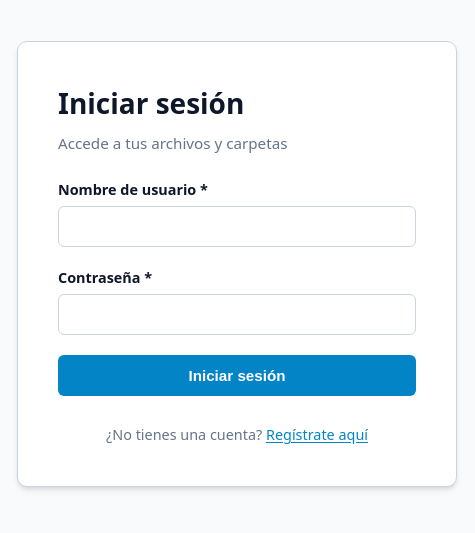
Frontend & Accesibilidad (a11y) - Módulo de Autenticación (O04) › Formulario de Login (LoginPage) › muestra errores accesibles (role="alert" y aria-invalid) al fallar validación de cliente
Enviar con datos inválidos (username de 2 caracteres y password de 10)
In the field labelled "Nombre de usuario *": (237, 226) 58,206 -> 416,247, type "ab"
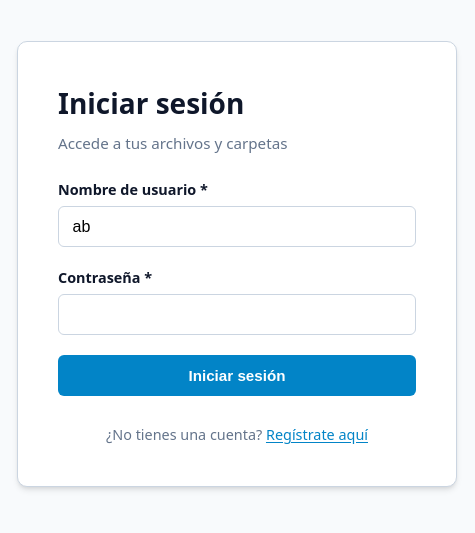
In the password field labelled "Contraseña *": (237, 314) 58,294 -> 416,335, type "corta123"
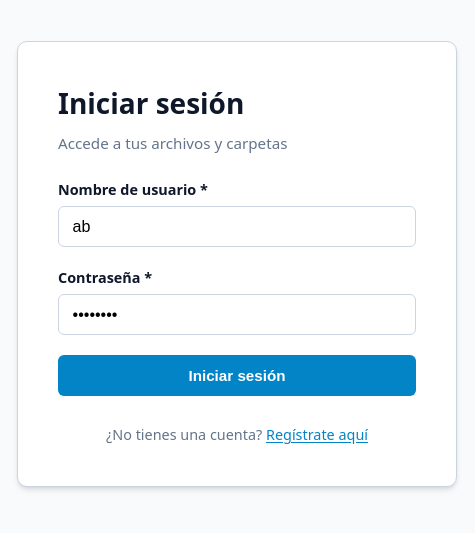
Click the button "Iniciar sesión": (237, 376) 58,355 -> 416,396
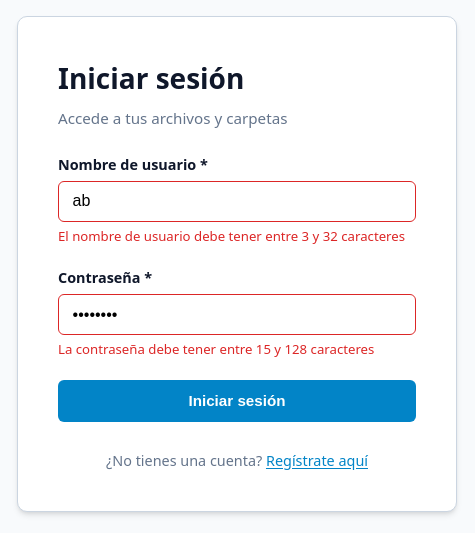
Check: the field labelled "Nombre de usuario *" is marked as invalid, box 58,181 -> 416,222
Check: the field labelled "Nombre de usuario *" has attribute aria-describedby="login-username-error", box 58,181 -> 416,222
